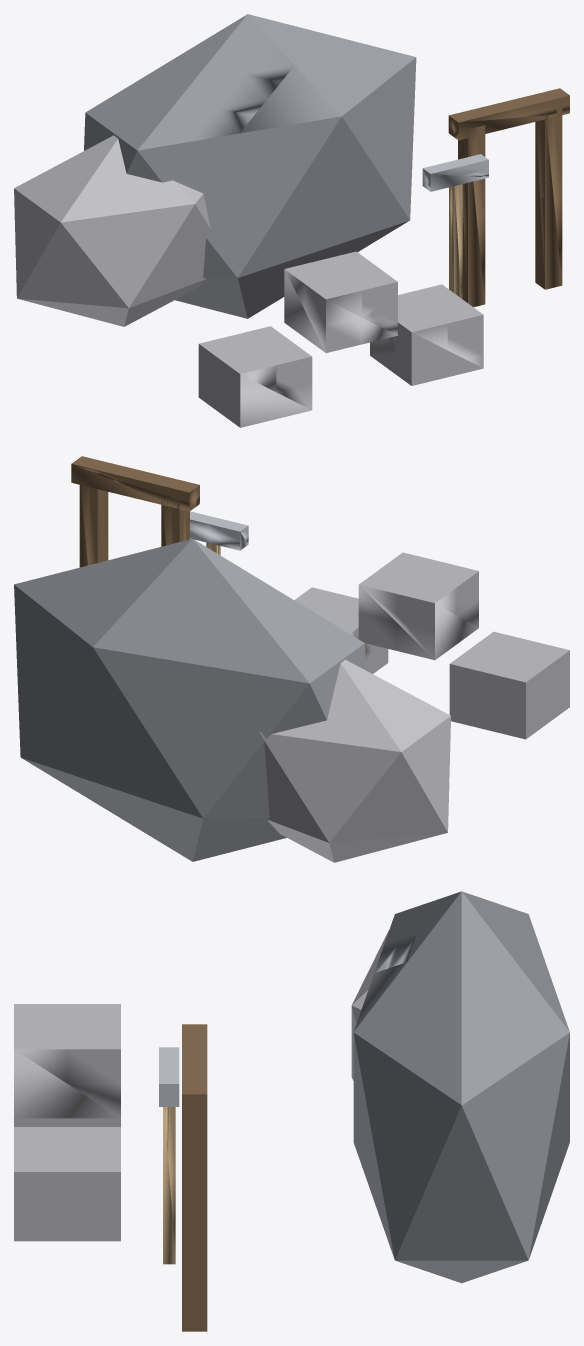
Rendered from quarry.glb.
3 views of the same model, one above another, from view 1: azimuth 30°, elevation 25°; view 2: azimuth 150°, elevation 25°; view 3: azimuth 270°, elevation 25° (orthographic). The views are drawn at different scales.
Parts seen in each view (by area): view 1: QuarryFace; view 2: QuarryFace; view 3: QuarryFace.
Part boxes in pixels (<box>): QuarryFace: <box>14,14,569,427</box>; QuarryFace: <box>14,456,569,862</box>; QuarryFace: <box>14,891,569,1331</box>.
Bounding box in the file's own units: 2.62 × 1.7 × 2.19.
